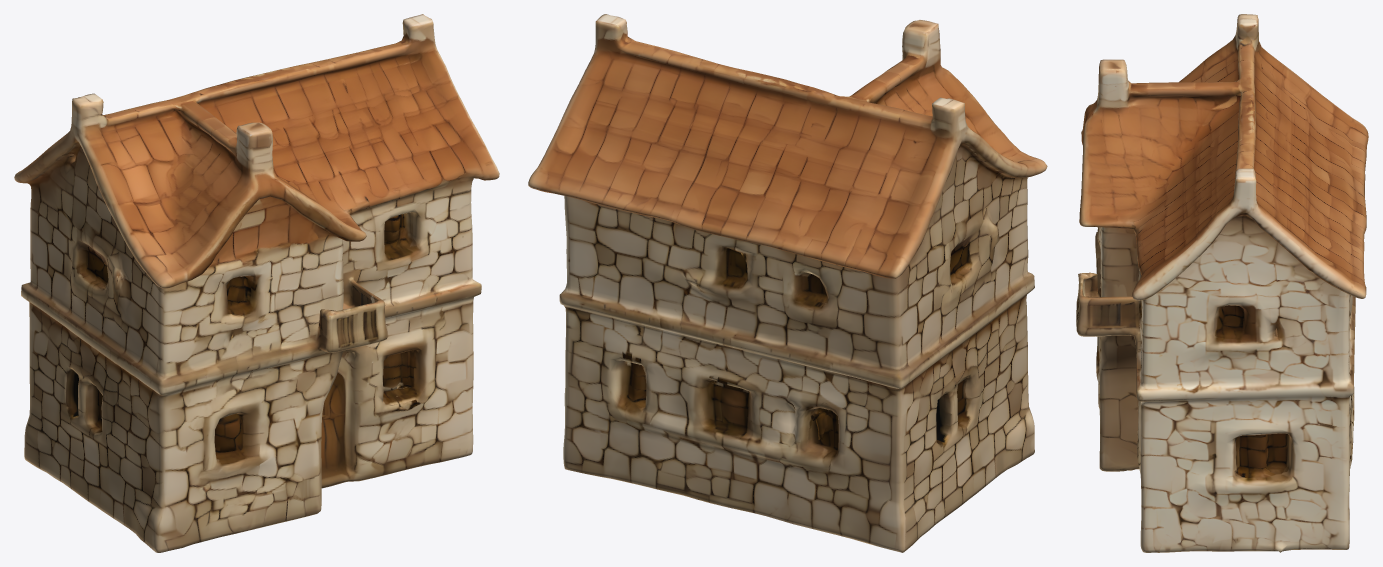
The model's file is base_basic_pbr.fbx.
3 views of the same model, side by side, from view 1: azimuth 30°, elevation 25°; view 2: azimuth 150°, elevation 25°; view 3: azimuth 270°, elevation 25° (orthographic). The views are drawn at different scales.
Parts seen in each view (by area): view 1: model; view 2: model; view 3: model.
Part boxes in pixels (bbox=[...]): model: bbox=[14, 14, 499, 552]; model: bbox=[528, 14, 1047, 552]; model: bbox=[1076, 14, 1368, 552].
Bounding box in the file's own units: 184 × 189 × 132.
Materials: 1 (1 with a texture image).
